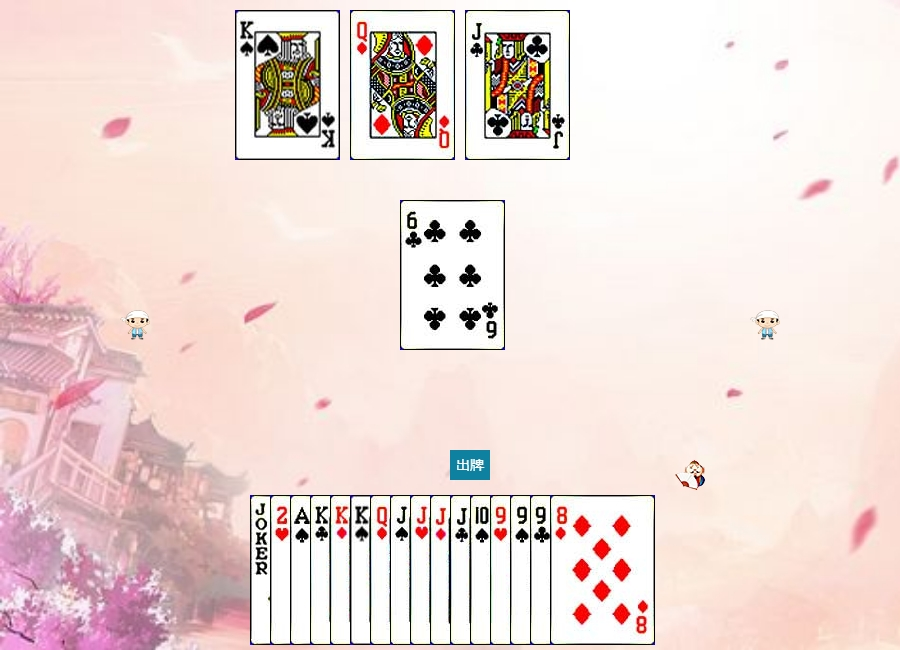10~4: (470, 495, 575, 645)
11~1: (430, 495, 535, 645)
11~2: (465, 10, 570, 160), (450, 495, 555, 645)
11~3: (410, 495, 515, 645)
11~4: (390, 495, 495, 645)
12~1: (350, 10, 455, 160), (370, 495, 475, 645)
13~1: (330, 495, 435, 645)
13~2: (310, 495, 415, 645)
13~4: (235, 10, 340, 160), (350, 495, 455, 645)
14~4: (290, 495, 395, 645)
15~3: (270, 495, 375, 645)
17~3: (250, 495, 355, 645)
6~2: (400, 200, 505, 350)
8~1: (550, 495, 655, 645)
9~2: (530, 495, 635, 645)
9~3: (490, 495, 595, 645)
9~4: (510, 495, 615, 645)
